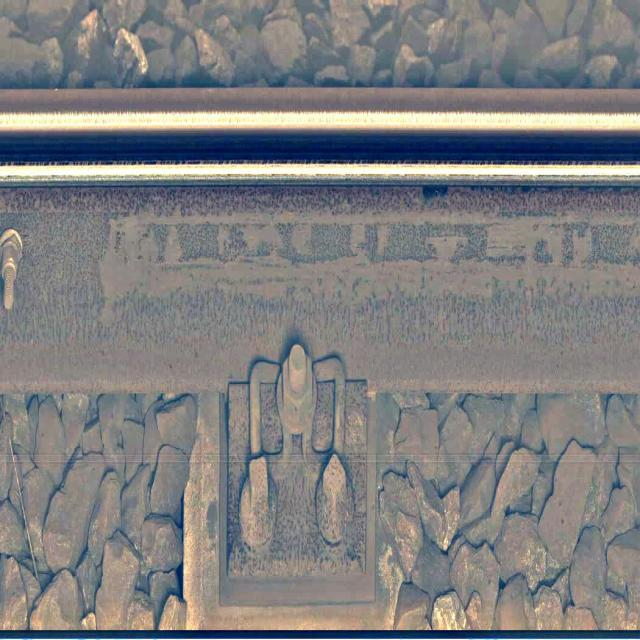Good Fasteners: (219, 345, 375, 610)
